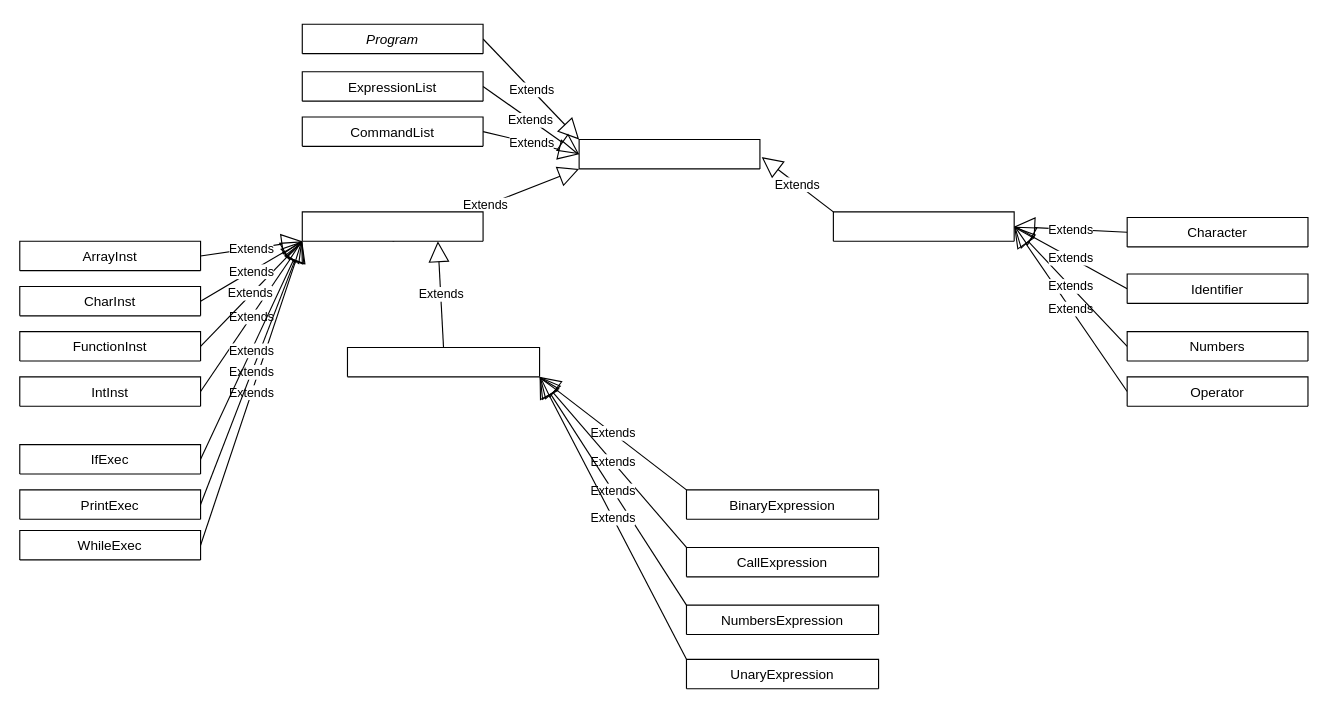
Some shapes in this 1328 by 709 pixel diagram are drawn without their labels. The shapes that lost their labels are listed below. From the top down, each one's box as (x1, y1, x2, y2) in pixels, then its label:
(578, 138, 760, 169): AST
(301, 211, 483, 241): Command
(832, 211, 1014, 241): Terminal
(346, 346, 540, 377): Expression
